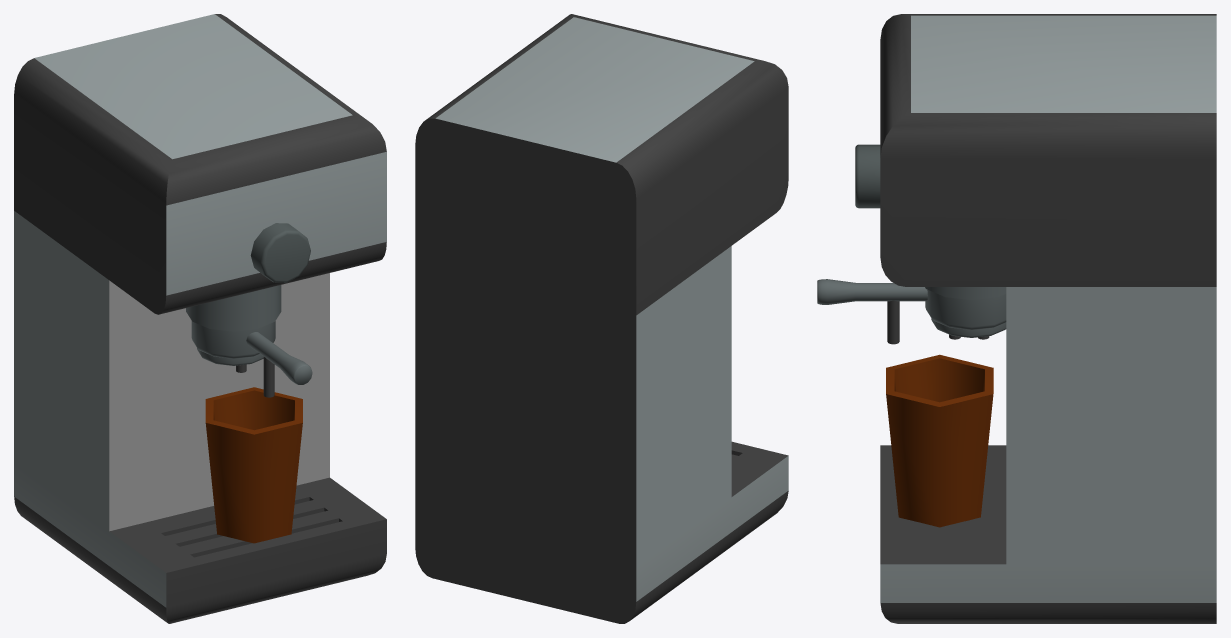
The model's file is Coffee-Machine.fbx.
3 views of the same model, side by side, from view 1: azimuth 30°, elevation 25°; view 2: azimuth 150°, elevation 25°; view 3: azimuth 270°, elevation 25° (orthographic). The views are drawn at different scales.
Parts seen in each view (by area): view 1: Coffee-Machine, Glass; view 2: Coffee-Machine; view 3: Coffee-Machine, Glass.
Part boxes in pixels (left/top/right/bottom): Coffee-Machine: left=14, top=14, right=386, bottom=623; Glass: left=205, top=387, right=302, bottom=543; Coffee-Machine: left=415, top=14, right=788, bottom=623; Coffee-Machine: left=817, top=14, right=1216, bottom=623; Glass: left=886, top=354, right=993, bottom=527.
Size of the model in its own units: 0.1908 by 0.3798 by 0.2706.
